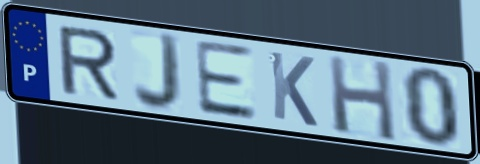0: (395, 63, 465, 149)
E: (191, 37, 260, 123)
H: (325, 52, 399, 145)
J: (130, 30, 183, 114)
K: (266, 48, 320, 130)
R: (54, 24, 121, 101)
